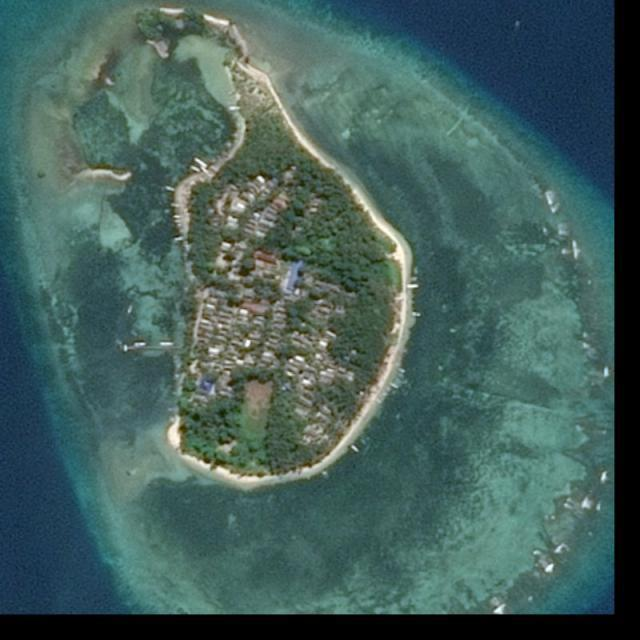ship: (124, 305, 134, 315), (134, 342, 146, 350), (158, 342, 174, 346), (514, 19, 520, 27)
